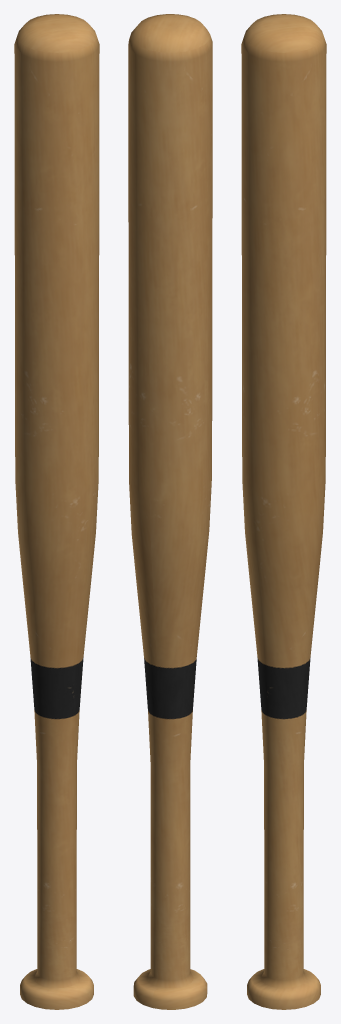
Rendered from BaseballBat.glb.
3 renders of one model, left to right at view 1: azimuth 90°, elevation 25°; view 2: azimuth 150°, elevation 25°; view 3: azimuth 270°, elevation 25°, orthographic.
Visible parts, largest first — view 1: BaseballBat; view 2: BaseballBat; view 3: BaseballBat.
Part boxes in pixels (x1=…): BaseballBat: x1=14, y1=14, x2=99, y2=1009; BaseballBat: x1=128, y1=14, x2=212, y2=1009; BaseballBat: x1=241, y1=14, x2=326, y2=1009.
Bounding box in the file's own units: 0.0781 × 0.984 × 0.0781.
1 material, 1 textured.
